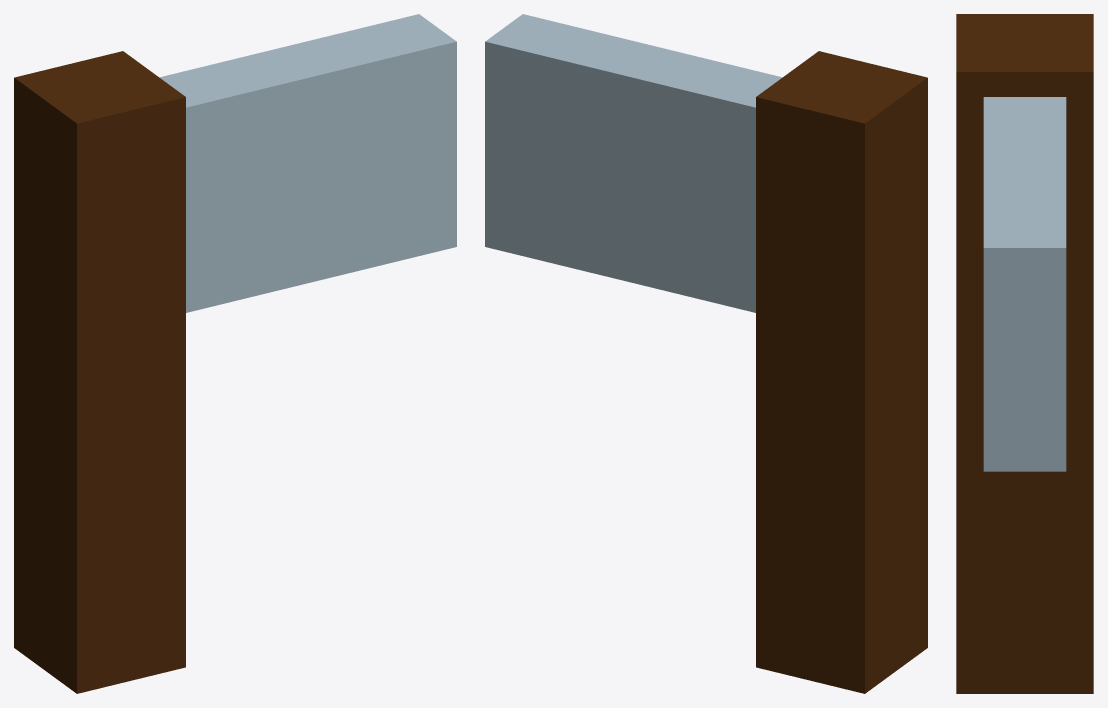
Rendered from flag.obj.
3 renders of one model, left to right at view 1: azimuth 30°, elevation 25°; view 2: azimuth 150°, elevation 25°; view 3: azimuth 270°, elevation 25°, orthographic. The views are drawn at different scales.
Visible parts, largest first — view 1: Pole, Flag; view 2: Pole, Flag; view 3: Pole, Flag.
Part boxes in pixels (left/top/right/bottom): Pole: left=14, top=51, right=185, bottom=693; Flag: left=159, top=14, right=456, bottom=312; Pole: left=756, top=51, right=927, bottom=693; Flag: left=485, top=14, right=782, bottom=312; Pole: left=956, top=14, right=1093, bottom=693; Flag: left=983, top=97, right=1066, bottom=471.
Size of the model in its own units: 1.8 by 2.5 by 0.5.
